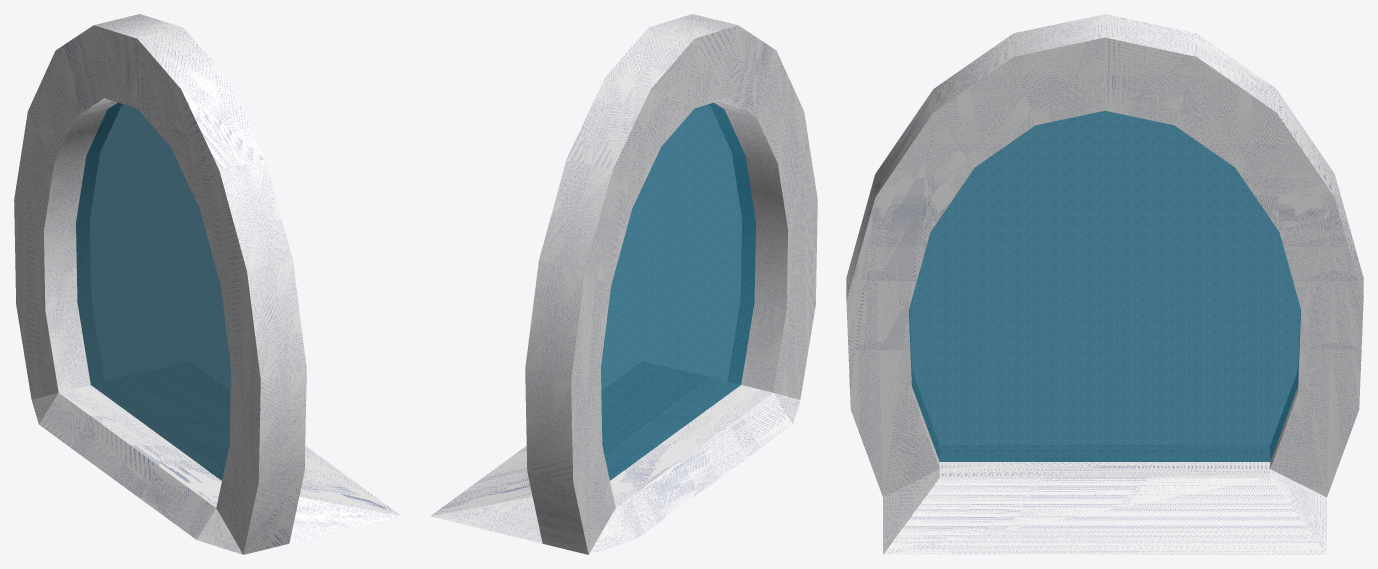
The picture shows the model from 3 angles, left to right: view 1: azimuth 30°, elevation 25°; view 2: azimuth 150°, elevation 25°; view 3: azimuth 270°, elevation 25°; orthographic projection. The views are drawn at different scales.
Parts seen in each view (by area): view 1: SketchUp (×2); view 2: SketchUp (×2); view 3: SketchUp (×2).
Boxes of the visible parts, bbox=[...] form: SketchUp (×2): bbox=[14, 14, 401, 554]; SketchUp (×2): bbox=[430, 14, 817, 554]; SketchUp (×2): bbox=[846, 14, 1363, 554].
Bounding box in the file's own units: 96.08 × 230 × 226.
